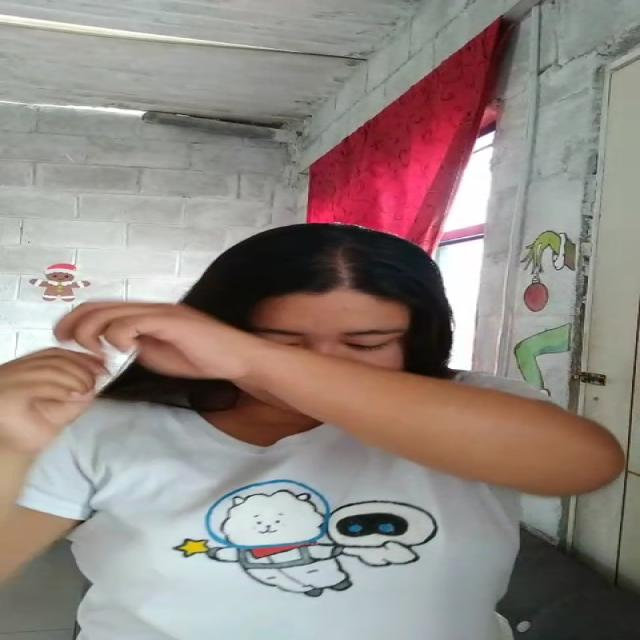7_mano_rostro: (187, 304, 517, 454)
